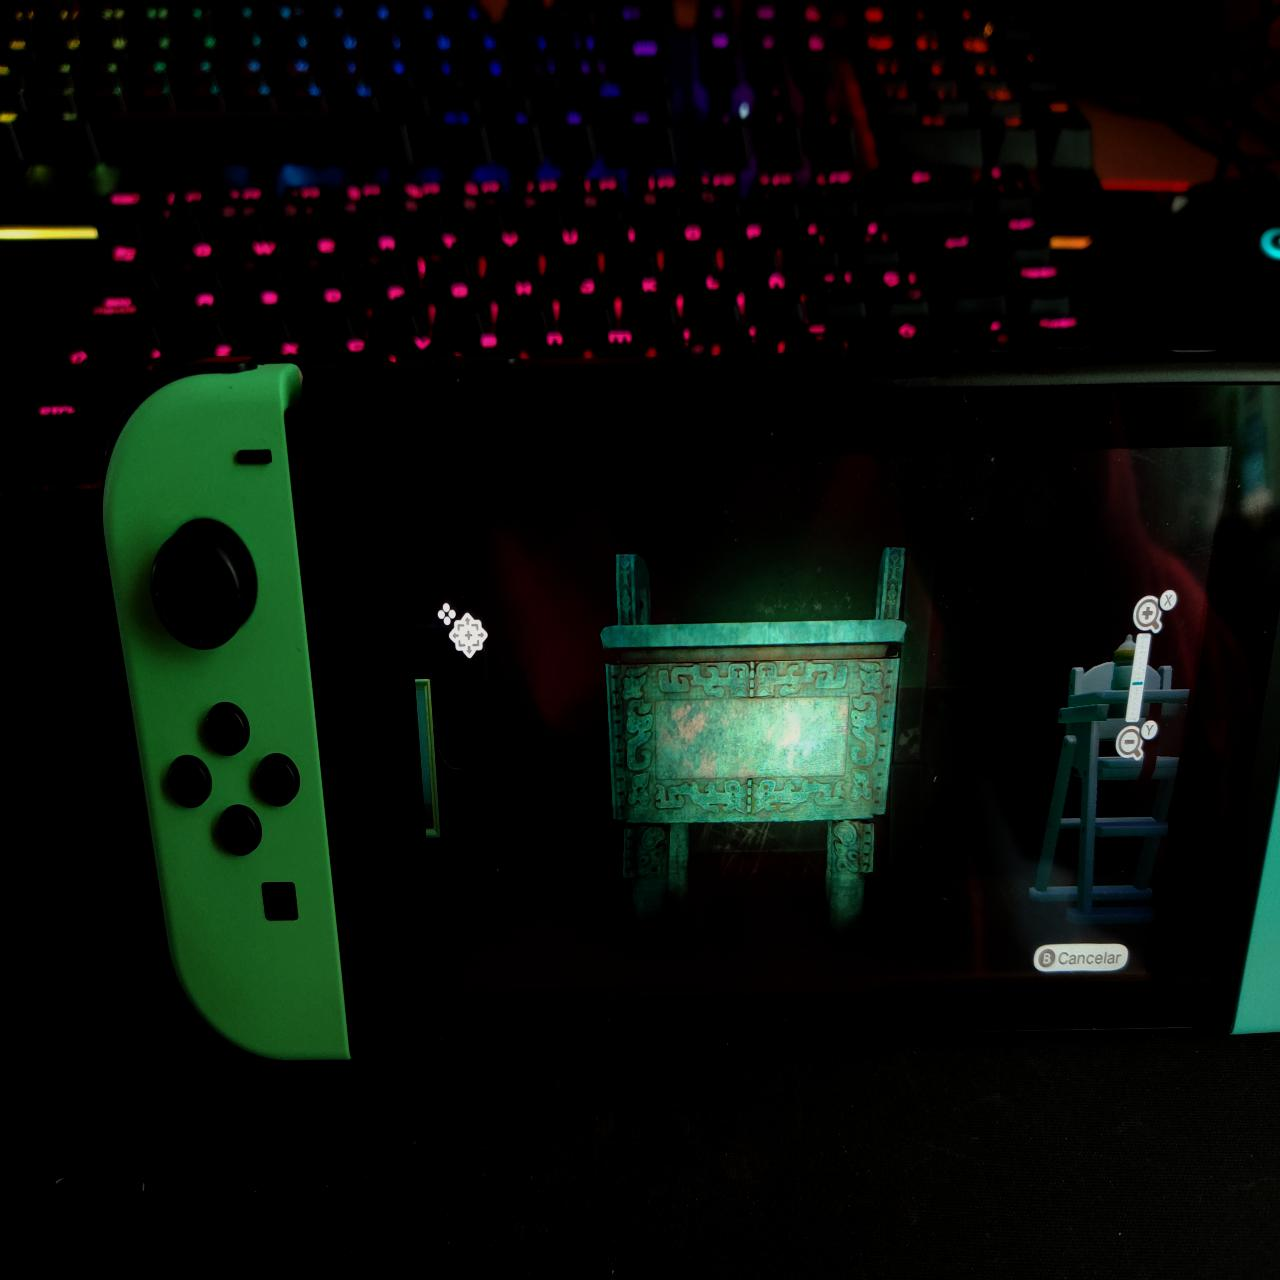HoumuwuDing: (595, 543, 919, 951)
